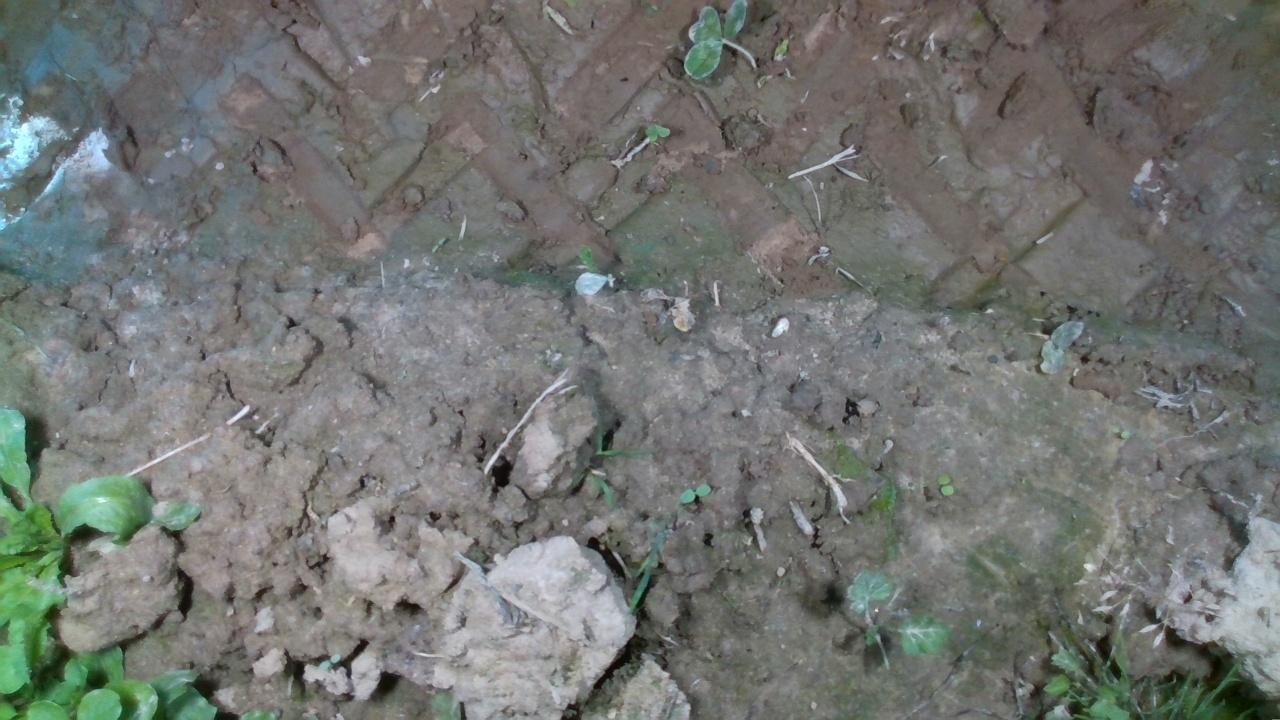weed: (676, 481, 712, 504), (935, 473, 954, 497)
